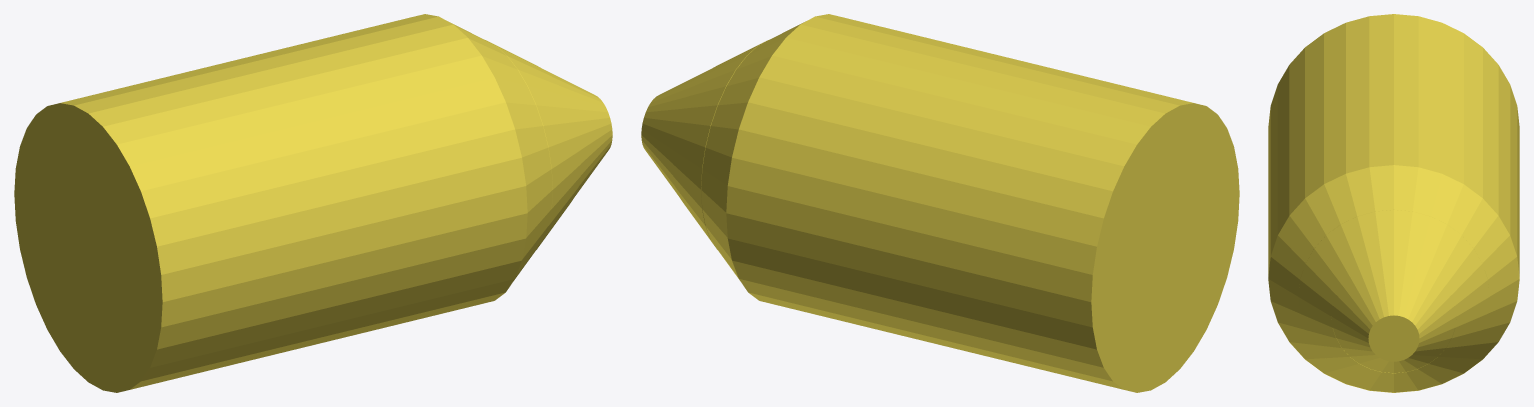
Rendered from Bullet.fbx.
3 views of the same model, side by side, from view 1: azimuth 30°, elevation 25°; view 2: azimuth 150°, elevation 25°; view 3: azimuth 270°, elevation 25° (orthographic). The views are drawn at different scales.
Visible parts, largest first — view 1: Bullet; view 2: Bullet; view 3: Bullet.
Boxes of the visible parts, x1,y1,x2,y2 form: Bullet: (14,14,612,392); Bullet: (641,14,1239,392); Bullet: (1268,14,1519,392).
Bounding box in the file's own units: 83.68 × 42.22 × 42.22.
